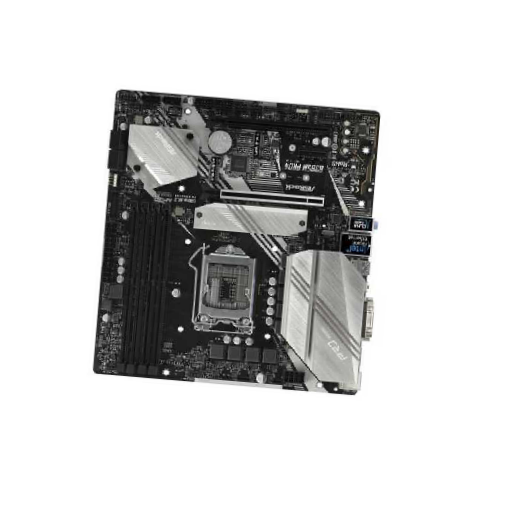CPU: (188, 244, 257, 335)
GPU: (208, 112, 336, 136), (220, 188, 325, 211)
MOTHERBOARD: (94, 89, 380, 398)
RAM: (118, 198, 173, 381)
SSD: (206, 156, 220, 185)
